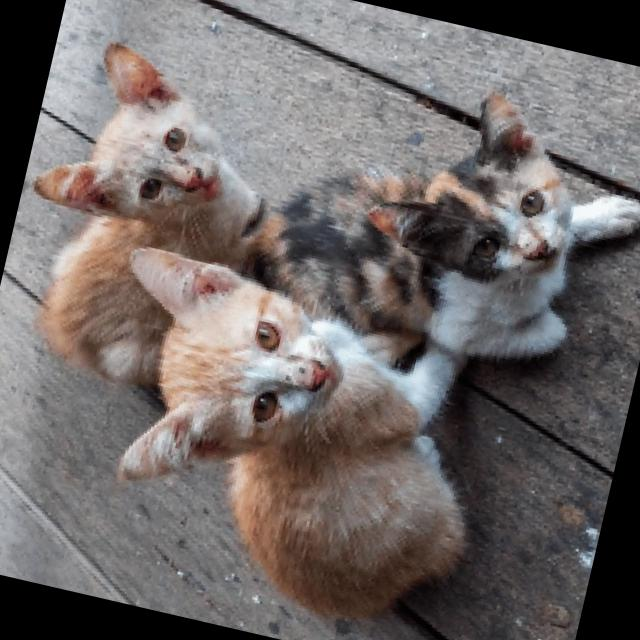Mange: (187, 270, 230, 310), (504, 116, 544, 154), (356, 195, 392, 232), (288, 356, 314, 389), (170, 152, 192, 170)
